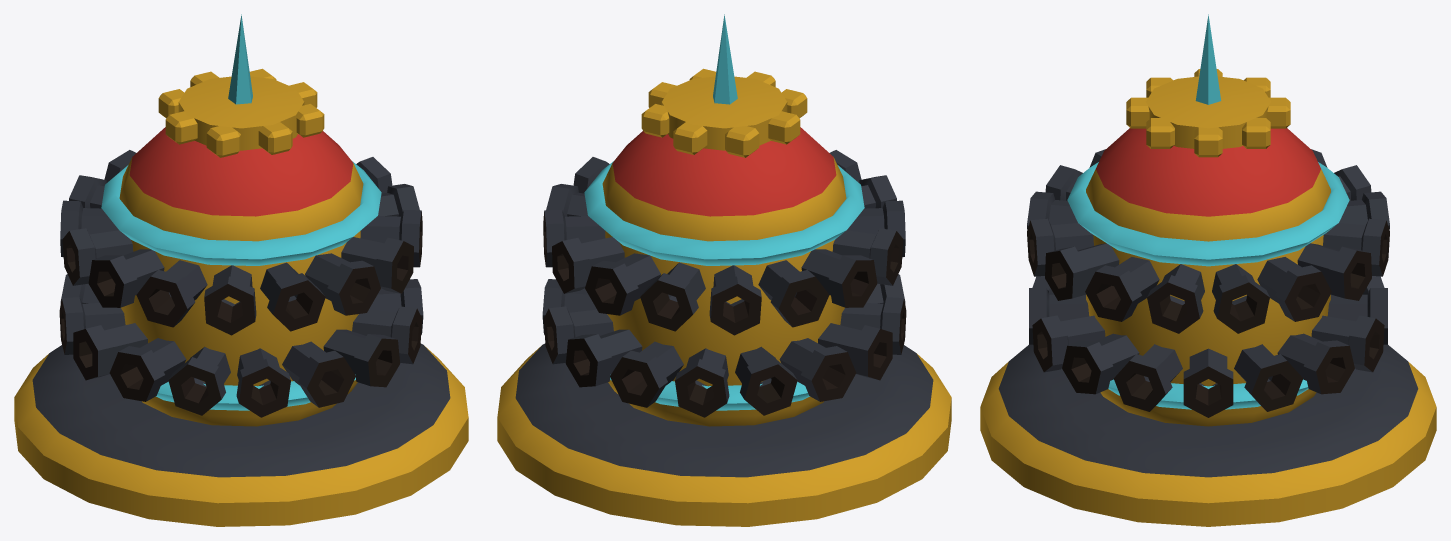
3 views of the same model, side by side, from view 1: azimuth 30°, elevation 25°; view 2: azimuth 150°, elevation 25°; view 3: azimuth 270°, elevation 25° (orthographic).
Visible parts, largest first — view 1: tachinha_1_torreta, tachinha_0_base; view 2: tachinha_1_torreta, tachinha_0_base; view 3: tachinha_1_torreta, tachinha_0_base.
Part boxes in pixels (x1,y1,x2,y2): tachinha_1_torreta: (59,14,423,426); tachinha_0_base: (14,343,468,526); tachinha_1_torreta: (542,14,906,426); tachinha_0_base: (497,343,951,526); tachinha_1_torreta: (1027,14,1389,426); tachinha_0_base: (980,344,1436,526).
Size of the model in its own units: 0.8 by 0.81 by 0.8.
